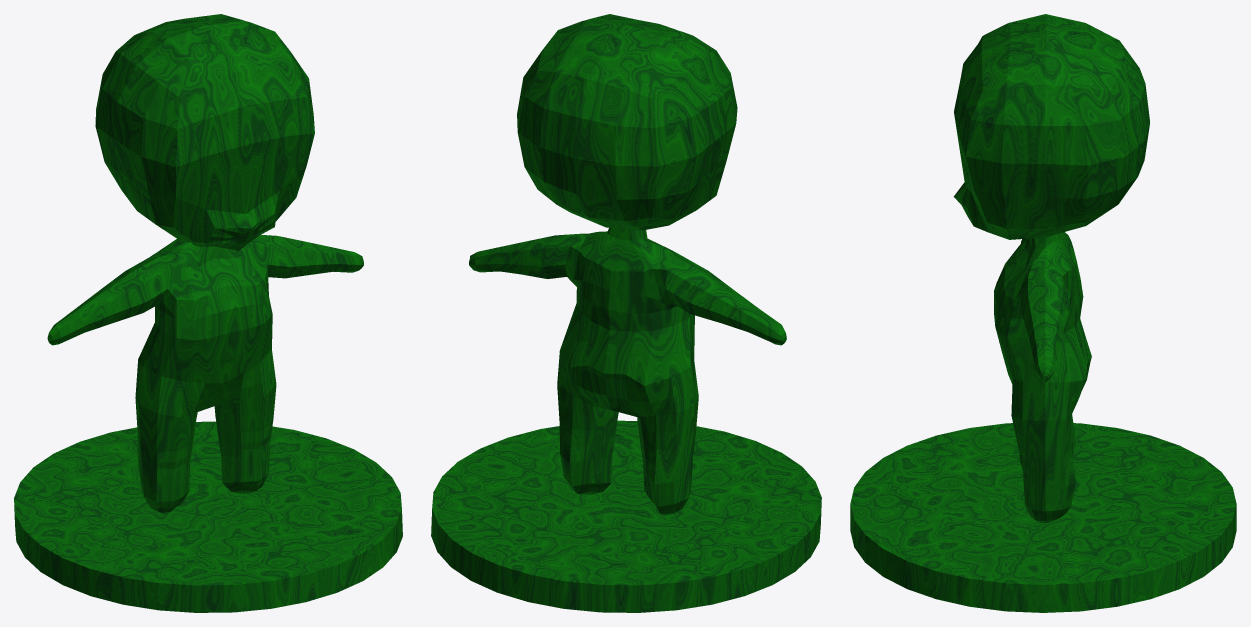
Rendered from PlaceholderGreenCharacter.fbx.
3 views of the same model, side by side, from view 1: azimuth 30°, elevation 25°; view 2: azimuth 150°, elevation 25°; view 3: azimuth 270°, elevation 25° (orthographic).
Parts seen in each view (by area): view 1: Cube; view 2: Cube; view 3: Cube.
Boxes of the visible parts, x1,y1,x2,y2 form: Cube: (14,14,402,612); Cube: (431,14,821,612); Cube: (850,14,1236,612).
Bounding box in the file's own units: 296 × 423 × 296.
Materials: 1 (1 with a texture image).
